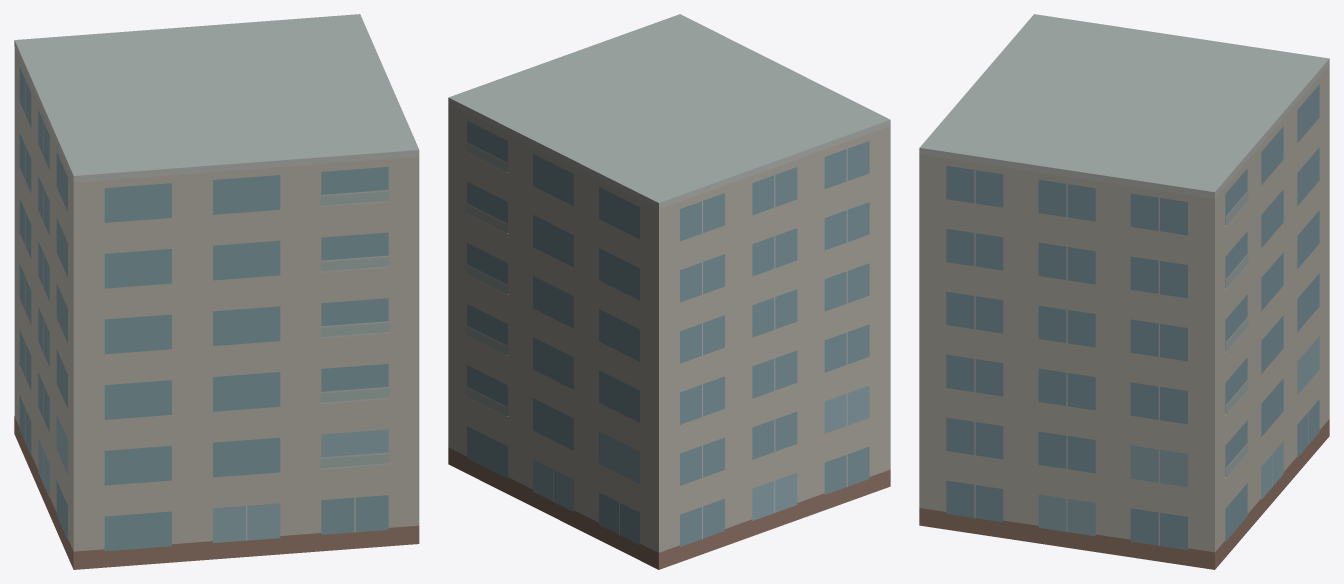
File: survey-upis-32999309.glb
3 renders of one model, left to right at view 1: azimuth 30°, elevation 25°; view 2: azimuth 150°, elevation 25°; view 3: azimuth 270°, elevation 25°, orthographic. The views are drawn at different scales.
Visible parts, largest first — view 1: survey-upis-32999309.tmp; view 2: survey-upis-32999309.tmp; view 3: survey-upis-32999309.tmp.
Boxes of the visible parts, x1,y1,x2,y2 form: survey-upis-32999309.tmp: (14,14,419,569); survey-upis-32999309.tmp: (448,14,890,569); survey-upis-32999309.tmp: (919,14,1329,569).
Size of the model in its own units: 14.73 by 14.55 by 14.33.
